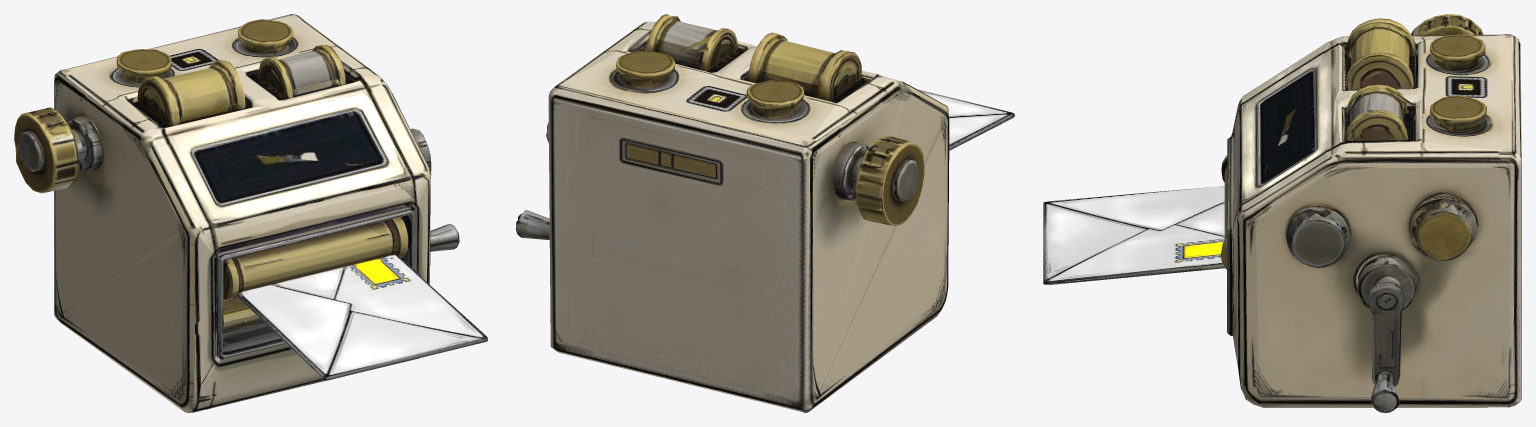
File: stamp_machine.glb
3 renders of one model, left to right at view 1: azimuth 30°, elevation 25°; view 2: azimuth 150°, elevation 25°; view 3: azimuth 270°, elevation 25°, orthographic. The views are drawn at different scales.
Bounding box in the file's own units: 0.9727 × 0.668 × 1.
1 material, 1 textured.
